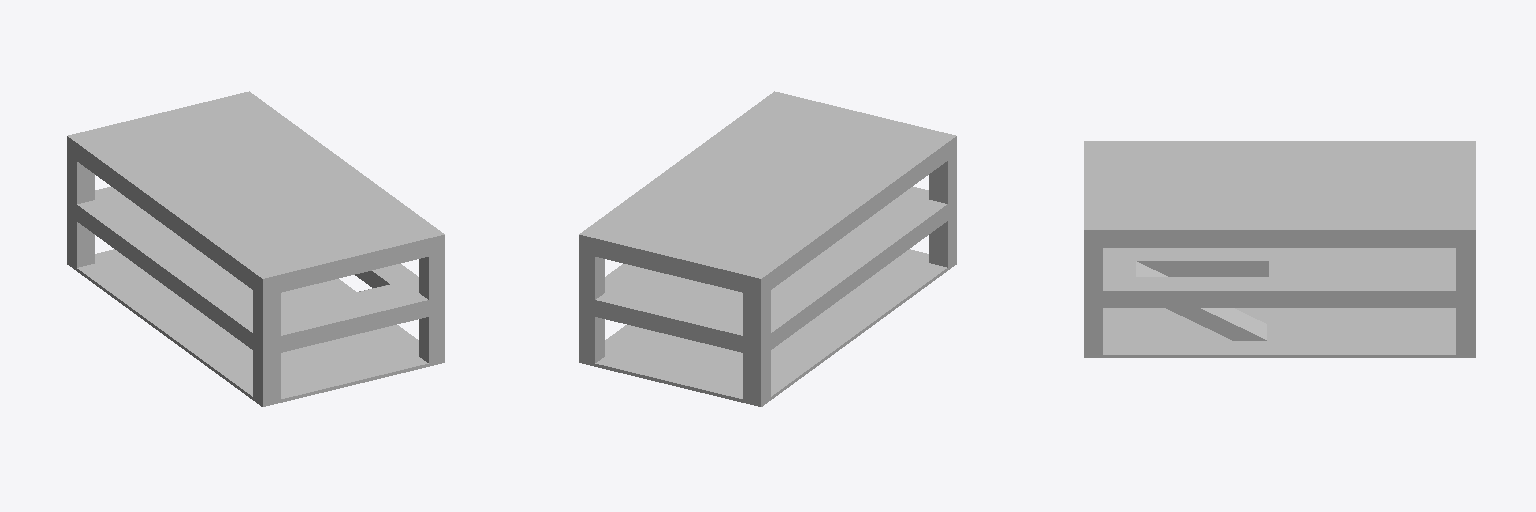
The model's file is Parking Garrage.obj.
3 renders of one model, left to right at view 1: azimuth 30°, elevation 25°; view 2: azimuth 150°, elevation 25°; view 3: azimuth 270°, elevation 25°, orthographic.
Parts seen in each view (by area): view 1: Parking_G; view 2: Parking_G; view 3: Parking_G.
Boxes of the visible parts, x1,y1,x2,y2 form: Parking_G: [67, 91, 444, 406]; Parking_G: [579, 91, 956, 406]; Parking_G: [1084, 141, 1475, 357].
Size of the model in its own units: 21 by 15.59 by 39.